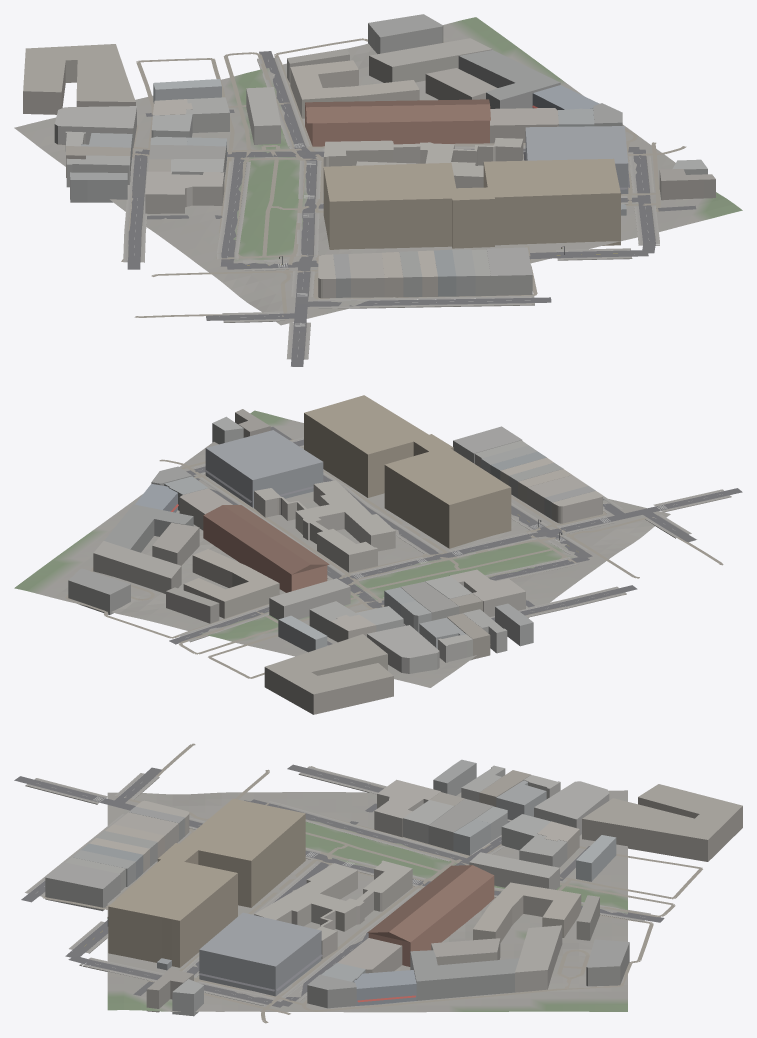
The model's file is tile_-1_1.glb.
3 views of the same model, one above another, from view 1: azimuth 30°, elevation 25°; view 2: azimuth 150°, elevation 25°; view 3: azimuth 270°, elevation 25° (orthographic). The views are drawn at different scales.
Visible parts, largest first — view 1: buildings, terrain, roads, sidewalks, paths; view 2: buildings, terrain, roads, paths, sidewalks; view 3: buildings, terrain, roads, paths, sidewalks, awnings.
Part boxes in pixels (left/top/right/bottom): buildings: left=23, top=14, right=715, bottom=300; terrain: left=14, top=17, right=742, bottom=325; roads: left=127, top=51, right=696, bottom=366; sidewalks: left=123, top=57, right=659, bottom=359; paths: left=56, top=38, right=686, bottom=320; buildings: left=68, top=395, right=602, bottom=714; terrain: left=14, top=410, right=670, bottom=687; roads: left=169, top=427, right=742, bottom=645; paths: left=65, top=438, right=723, bottom=678; sidewalks: left=178, top=437, right=731, bottom=642; buildings: left=45, top=759, right=742, bottom=1016; terrain: left=107, top=790, right=627, bottom=1012; roads: left=14, top=764, right=664, bottom=1007; paths: left=42, top=743, right=702, bottom=1023; sidewalks: left=25, top=766, right=650, bottom=1005; awnings: left=199, top=954, right=415, bottom=1002.
Bounding box in the file's own units: 326 × 28.37 × 359.
